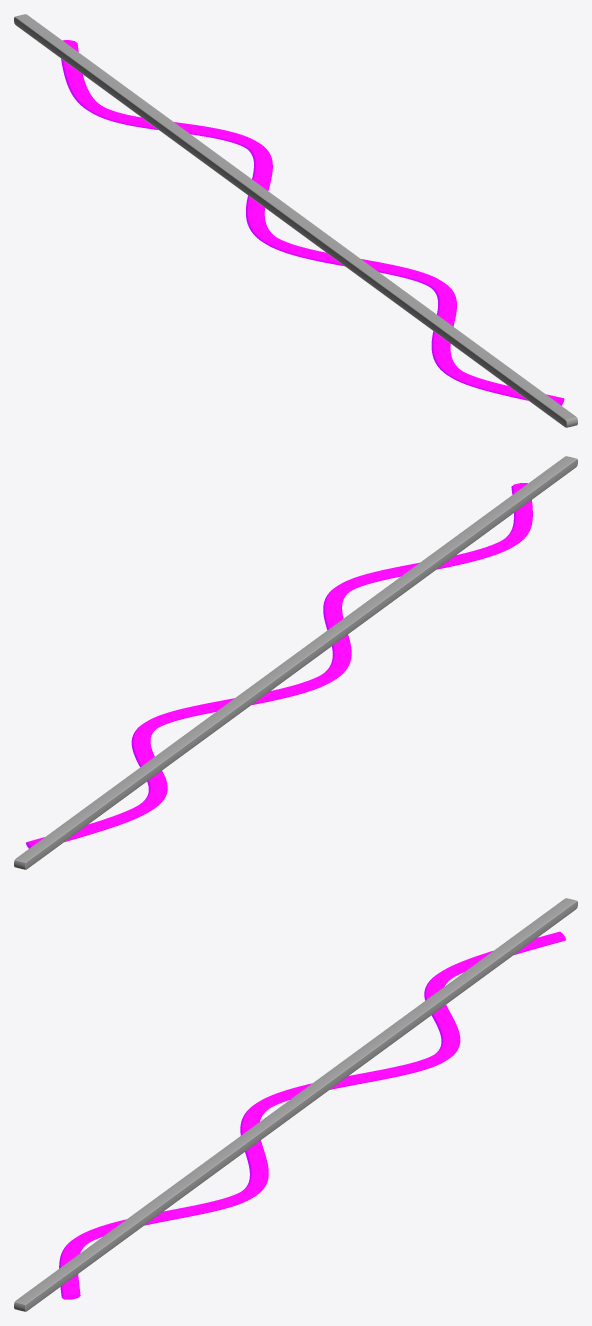
Rendered from RoofLight.fbx.
3 views of the same model, one above another, from view 1: azimuth 30°, elevation 25°; view 2: azimuth 150°, elevation 25°; view 3: azimuth 330°, elevation 25° (orthographic).
Visible parts, largest first — view 1: polySurface50, sweep5; view 2: polySurface50, sweep5; view 3: polySurface50, sweep5.
Boxes of the visible parts, x1,y1,x2,y2 form: polySurface50: [14, 14, 577, 427]; sweep5: [61, 40, 564, 405]; polySurface50: [14, 456, 577, 869]; sweep5: [26, 483, 532, 848]; polySurface50: [14, 898, 577, 1311]; sweep5: [59, 931, 565, 1299].
Bounding box in the file's own units: 178 × 24.77 × 1718.
